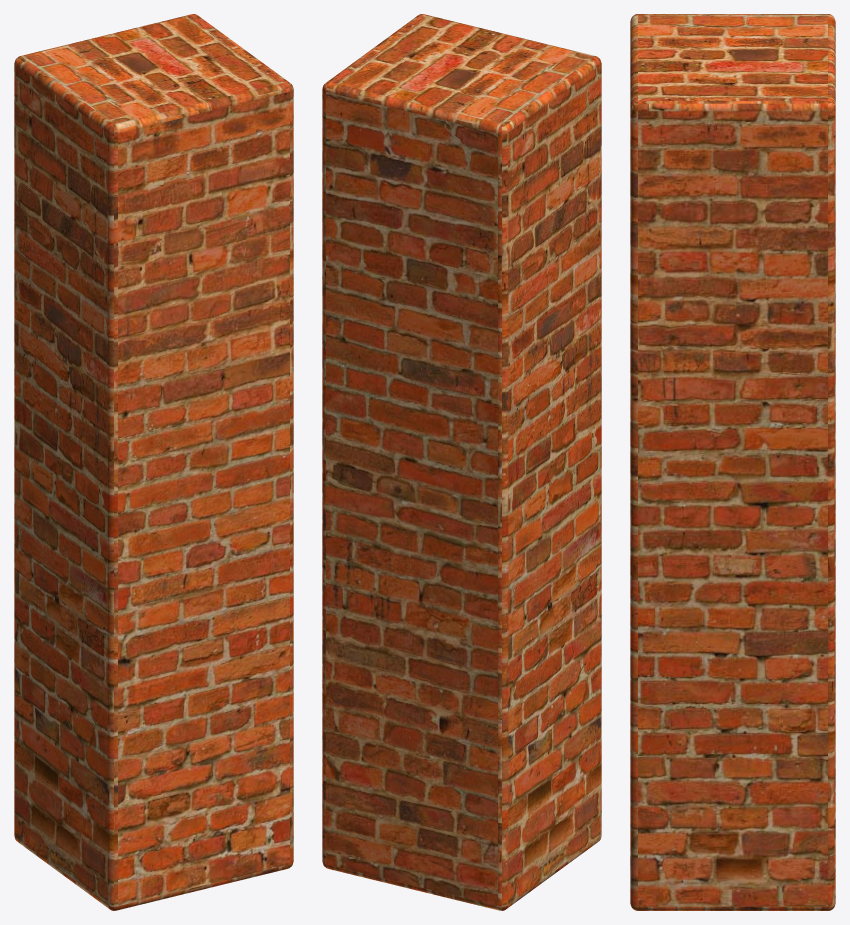
3 views of the same model, side by side, from view 1: azimuth 30°, elevation 25°; view 2: azimuth 150°, elevation 25°; view 3: azimuth 270°, elevation 25° (orthographic). The views are drawn at different scales.
Visible parts, largest first — view 1: Chamfer_Box__97319_ChamferBox_0; view 2: Chamfer_Box__97319_ChamferBox_0; view 3: Chamfer_Box__97319_ChamferBox_0.
Part boxes in pixels (box(x1,y1,x2,y2)): Chamfer_Box__97319_ChamferBox_0: box(14, 14, 293, 910); Chamfer_Box__97319_ChamferBox_0: box(322, 14, 601, 910); Chamfer_Box__97319_ChamferBox_0: box(630, 14, 835, 910).
Bounding box in the file's own units: 4.28 × 17.38 × 4.
